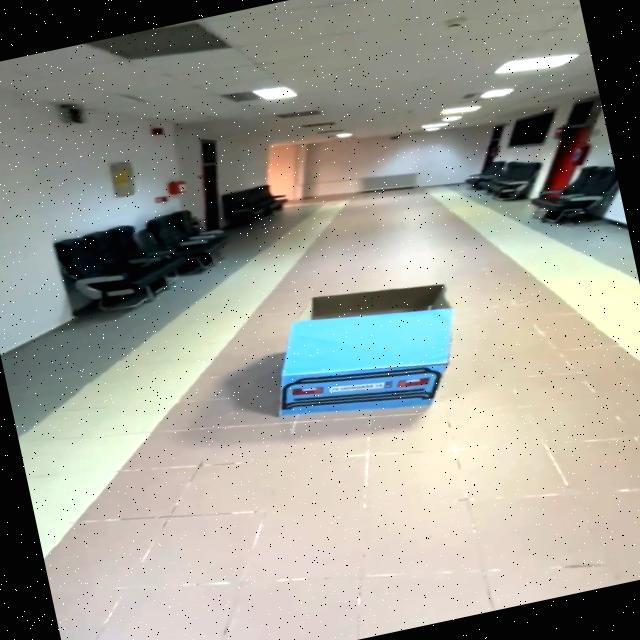blue_car: (241, 259, 489, 445)
